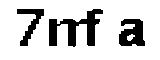7: (11, 6, 45, 50)
a: (115, 15, 149, 51)
f: (80, 7, 105, 52)
n: (48, 14, 77, 53)
